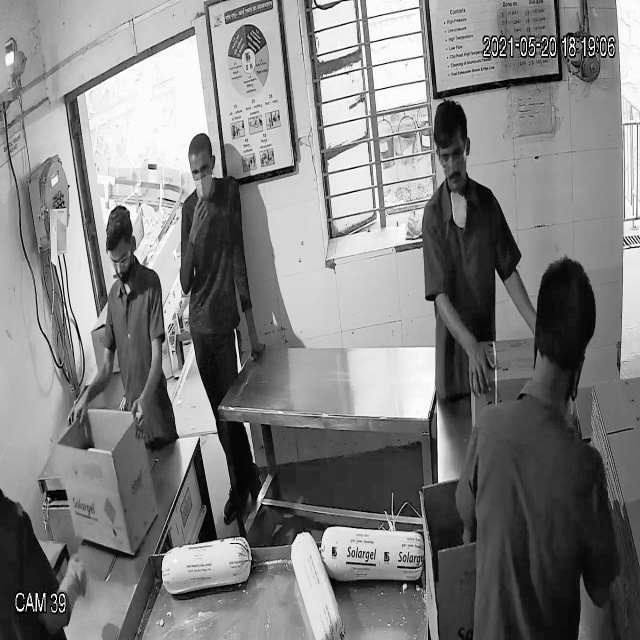Gafas: (435, 148, 468, 174), (106, 244, 132, 268)
Sin_gafas: (189, 159, 215, 179)
